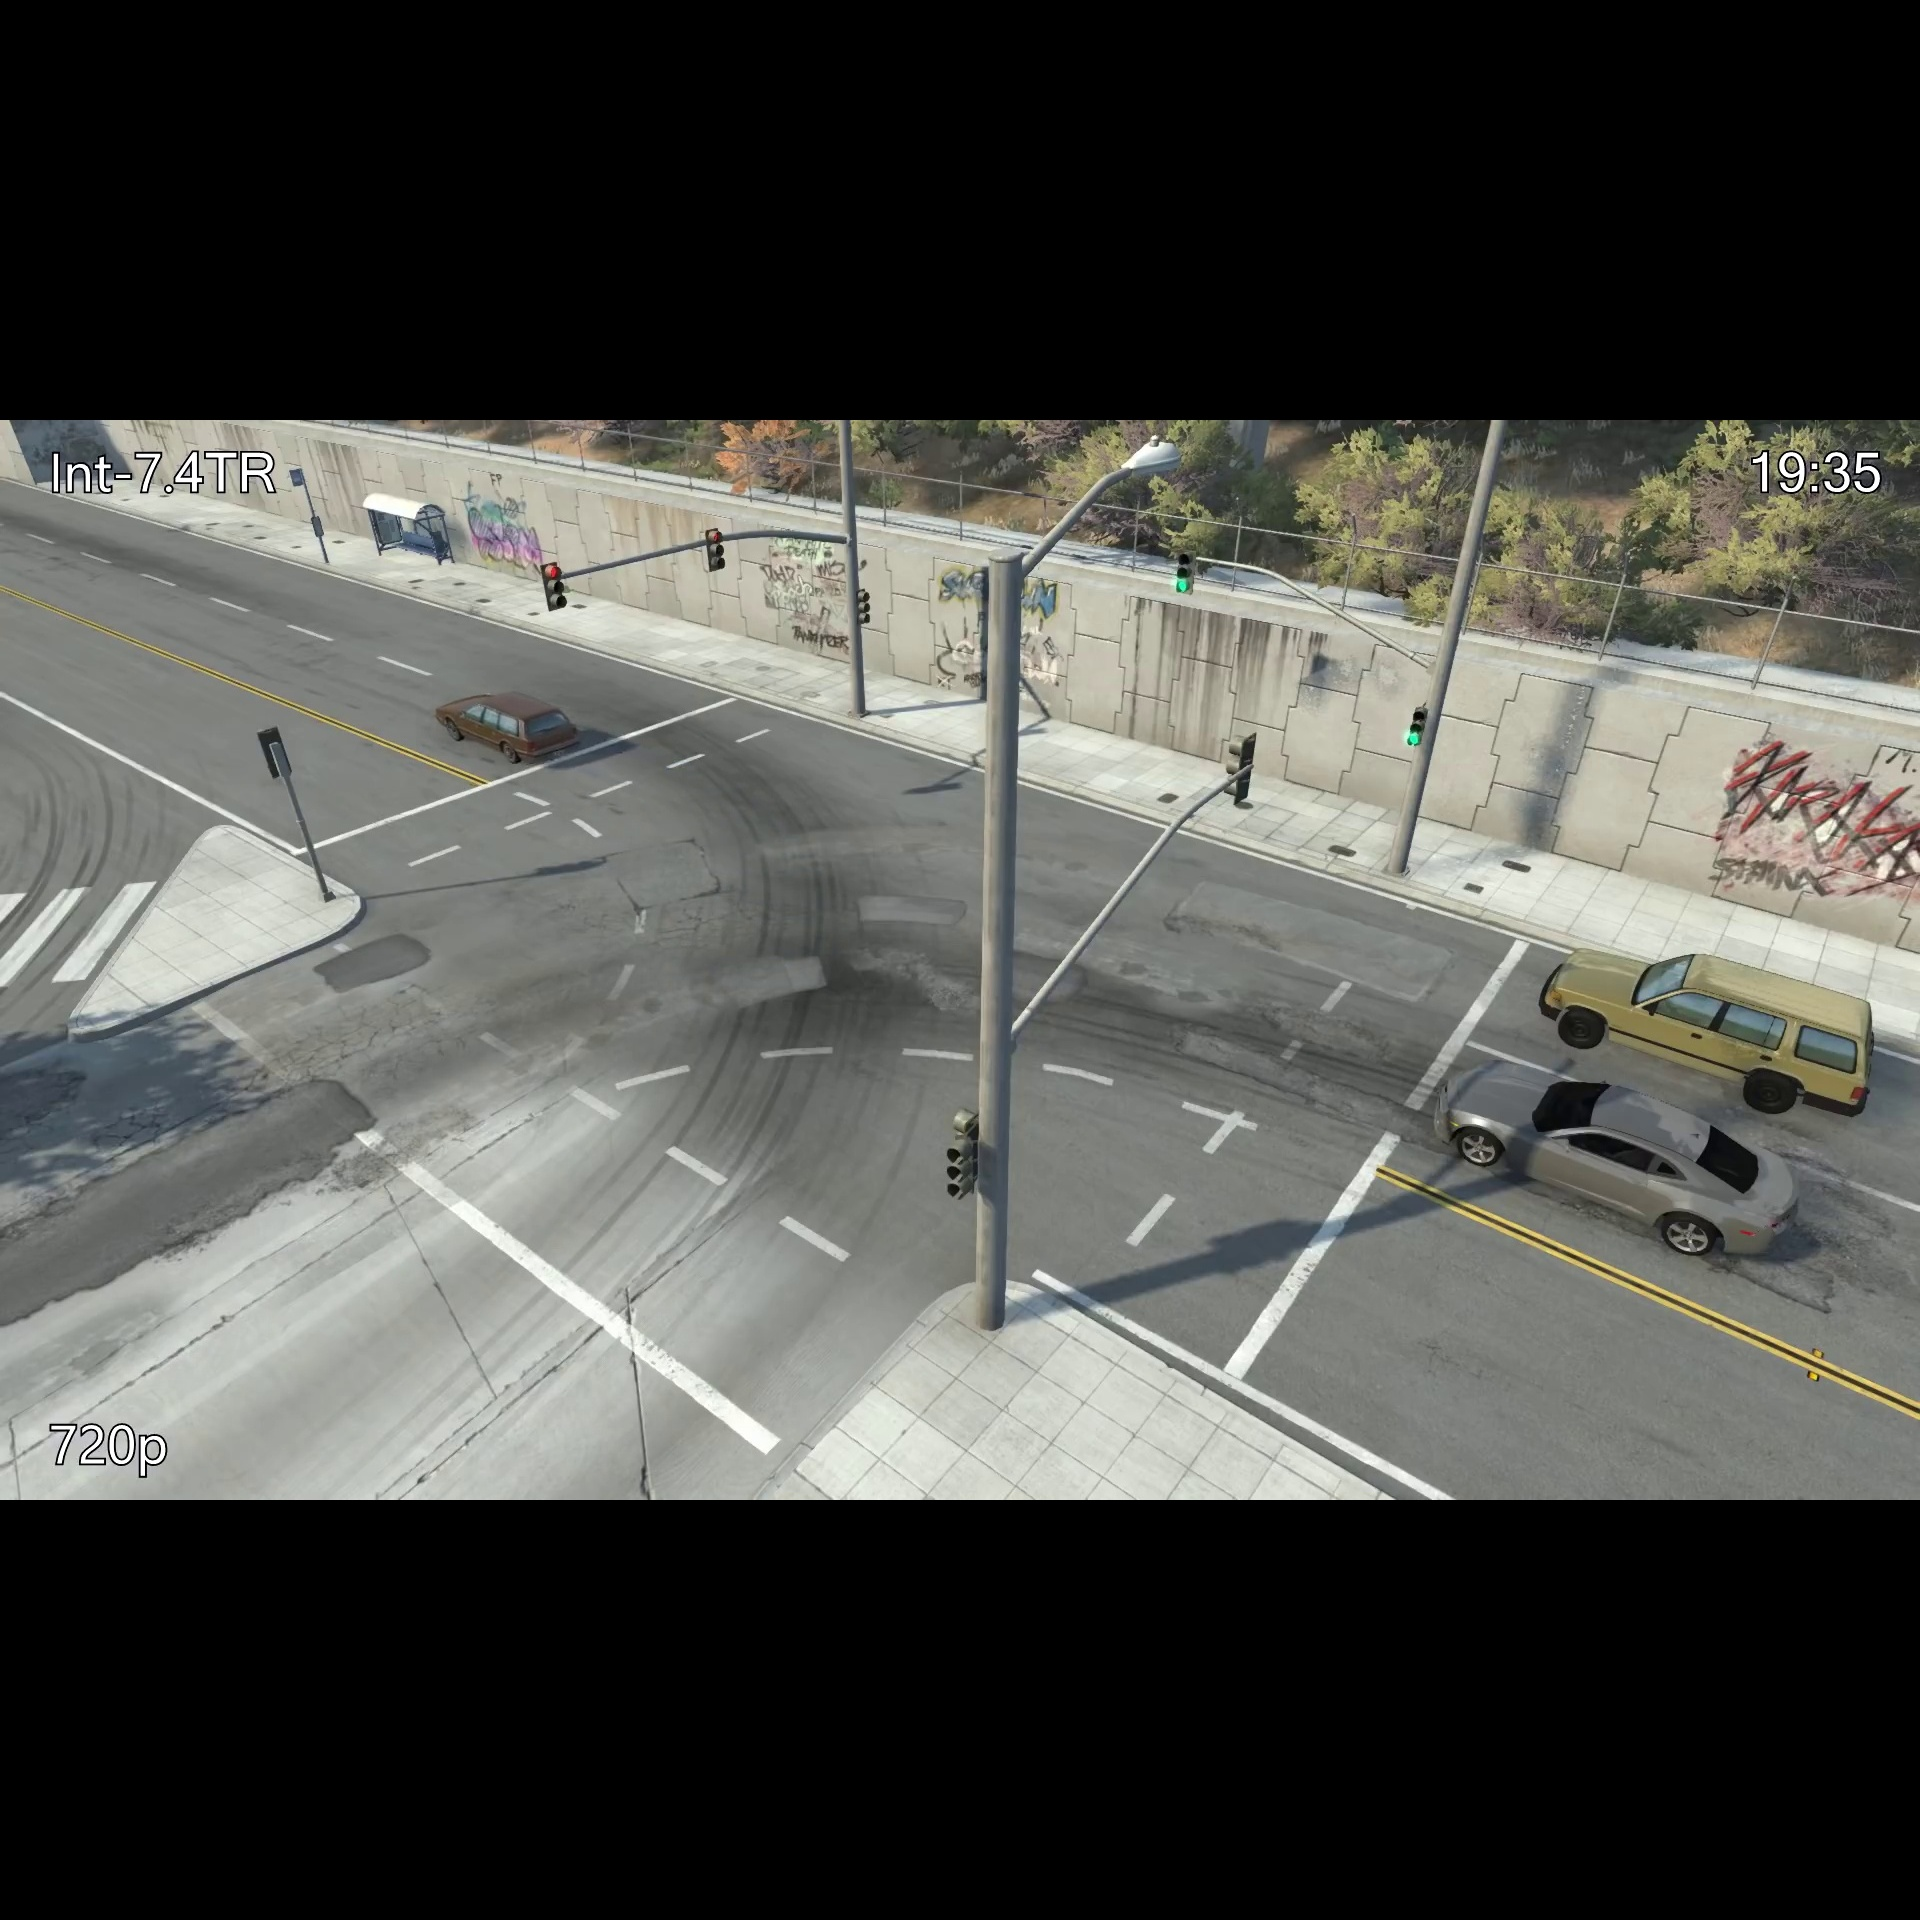vehicle: (1422, 1053, 1800, 1269), (1533, 935, 1888, 1132), (422, 686, 584, 772)
